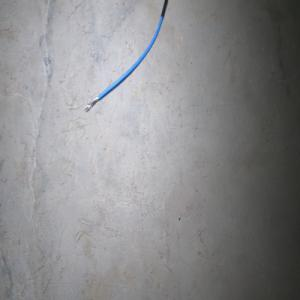Wire: (83, 0, 168, 112)
